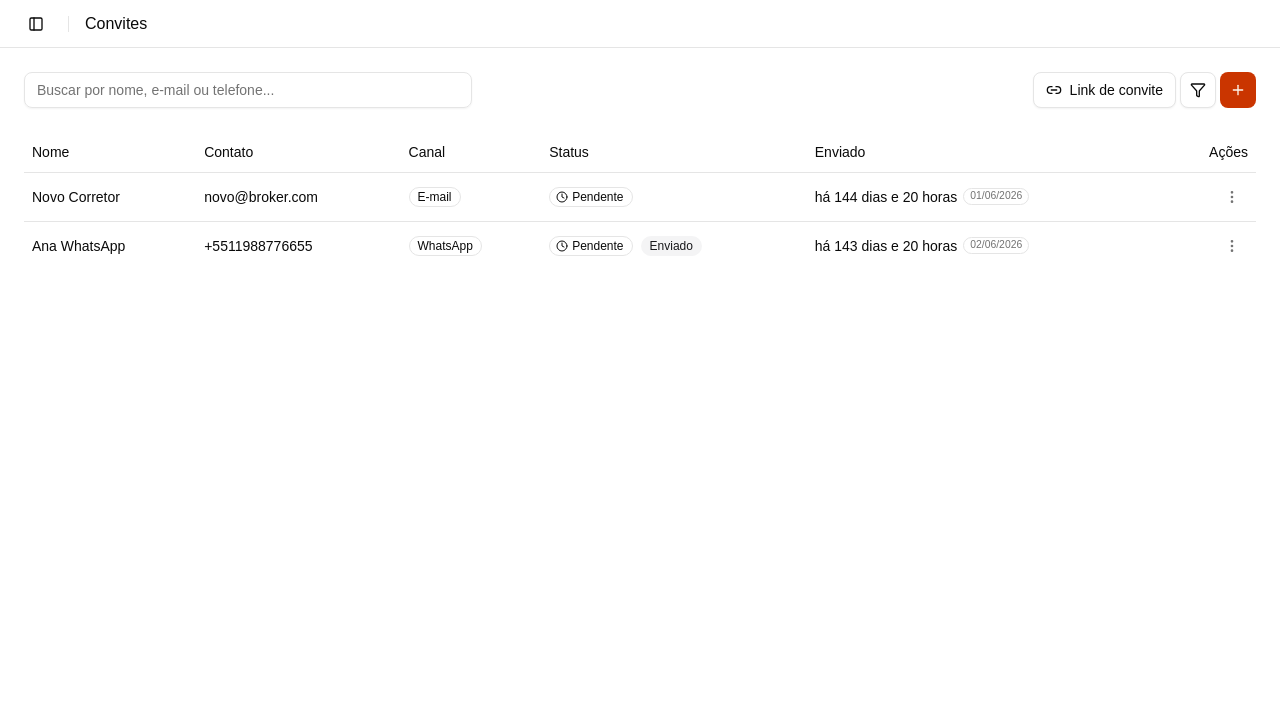
Test: InvitesPage › renders invite table and opens create dialog
Expected: the text "Novo Corretor" is shown, [24,172,196,221]
Expected: the text "Pendente" in the row of "Novo Corretor" is shown, [572,190,624,204]
Click the button "Link de convite": (1104, 90) [1033,72,1176,108]
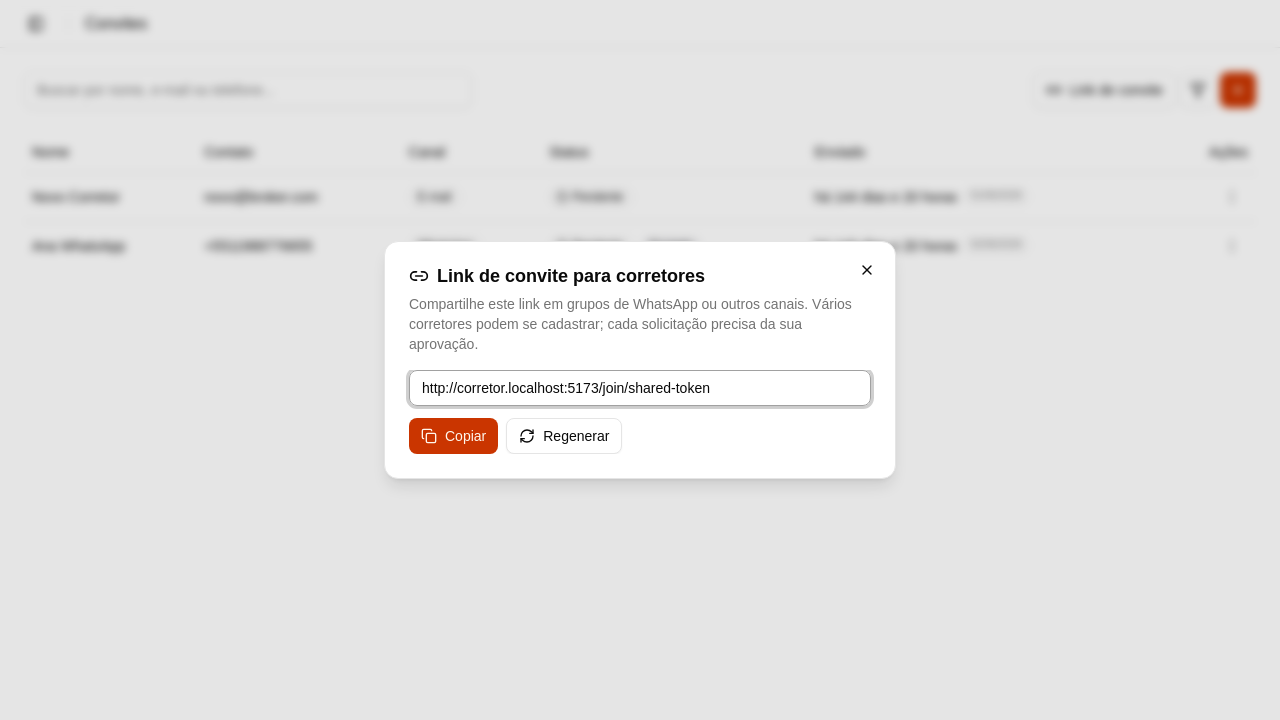
Expected: the dialog "Link de convite para corretores" is shown, [384,241,896,479]
Expected: the field named "Link de convite" holds "http://corretor.localhost:5173/join/shared-token", [409,370,871,406]
Expected: the button "Copiar" is shown, [409,418,498,454]
Click the button named "Fechar": (867, 270) [851,254,883,286]
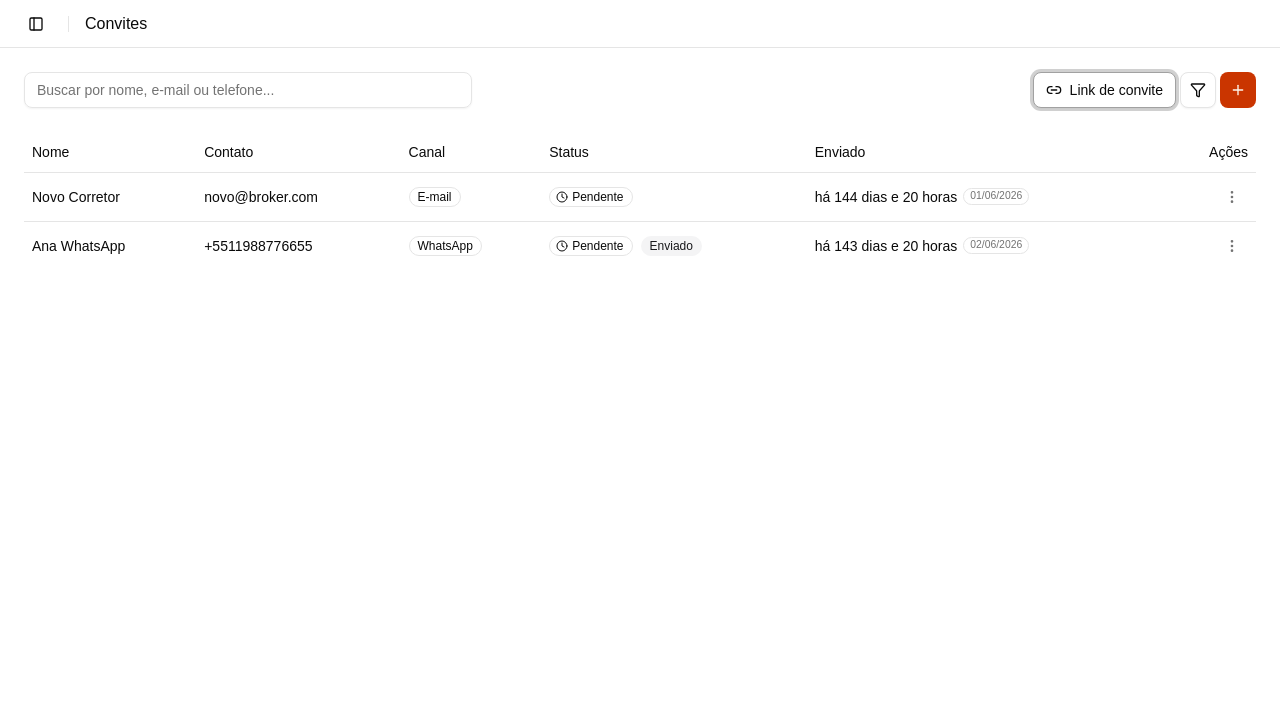
Click the button named "Convidar corretor": (1238, 90) [1220,72,1256,108]
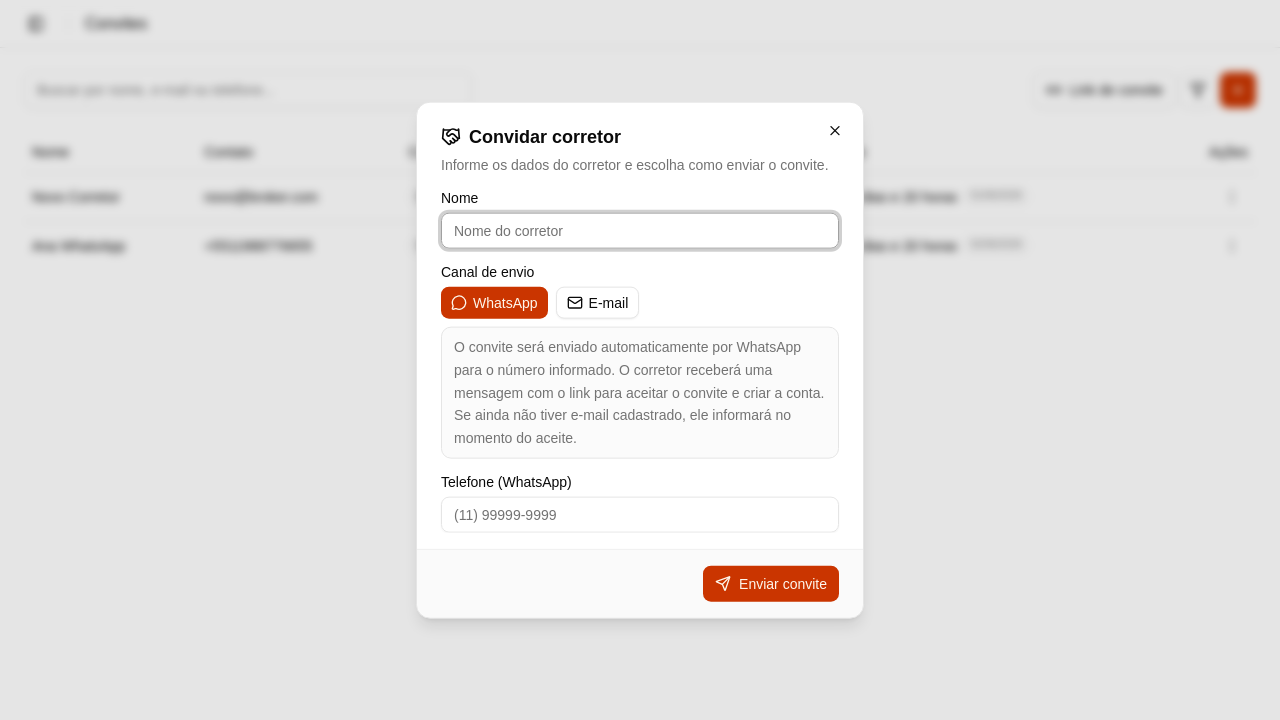
Expected: the dialog is shown, [416,102,864,618]
Expected: the field labelled "Nome" is shown, [441,213,839,249]
Expected: the text "Canal de envio" is shown, [441,264,534,280]
